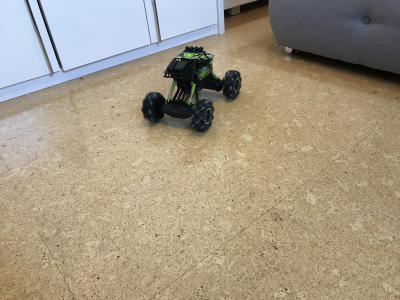remote control car: (129, 43, 244, 133)
